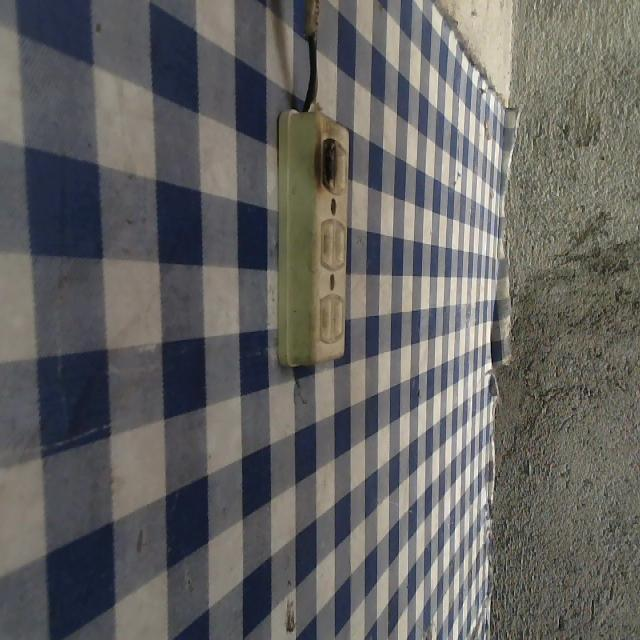-: (314, 131, 343, 200)
